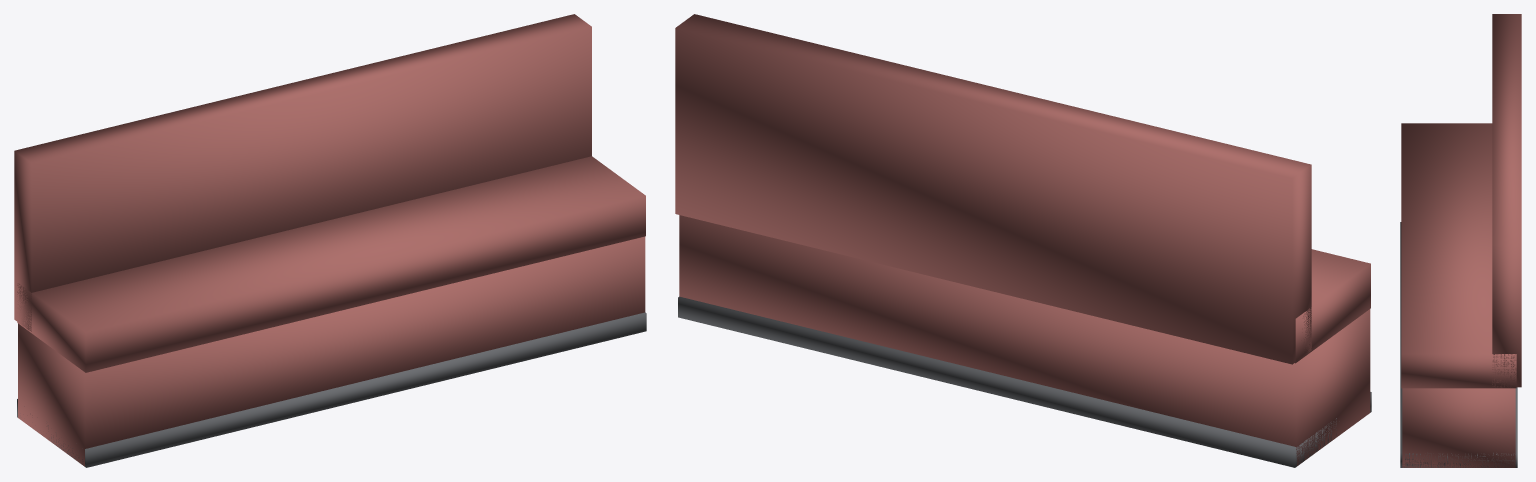
The model's file is diner_booth_double__wide.glb.
The picture shows the model from 3 angles, left to right: view 1: azimuth 30°, elevation 25°; view 2: azimuth 150°, elevation 25°; view 3: azimuth 270°, elevation 25°; orthographic projection. The views are drawn at different scales.
Parts seen in each view (by area): view 1: world; view 2: world; view 3: world.
Part boxes in pixels (x1=…): world: x1=14, y1=14, x2=646, y2=467; world: x1=675, y1=14, x2=1371, y2=467; world: x1=1400, y1=14, x2=1521, y2=467.
Bounding box in the file's own units: 2.6 × 1.17 × 0.58.
